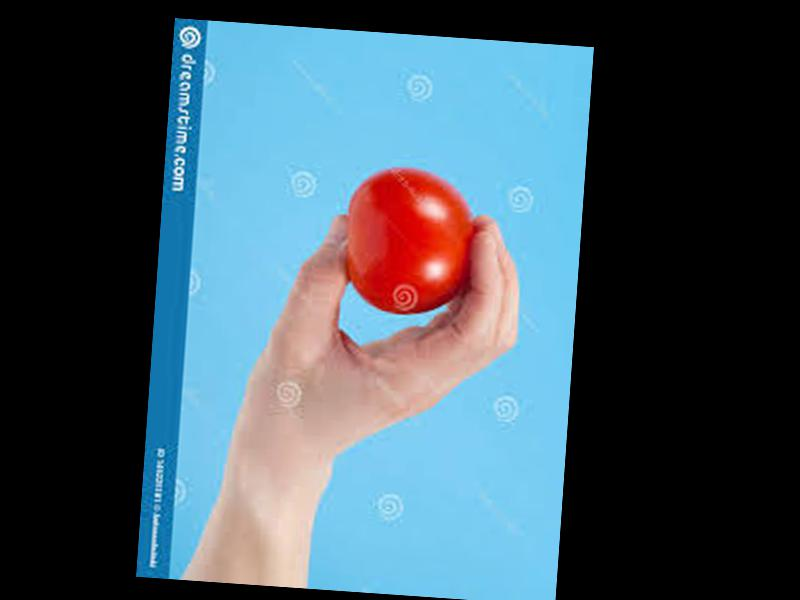Tomato: (341, 164, 481, 317)
